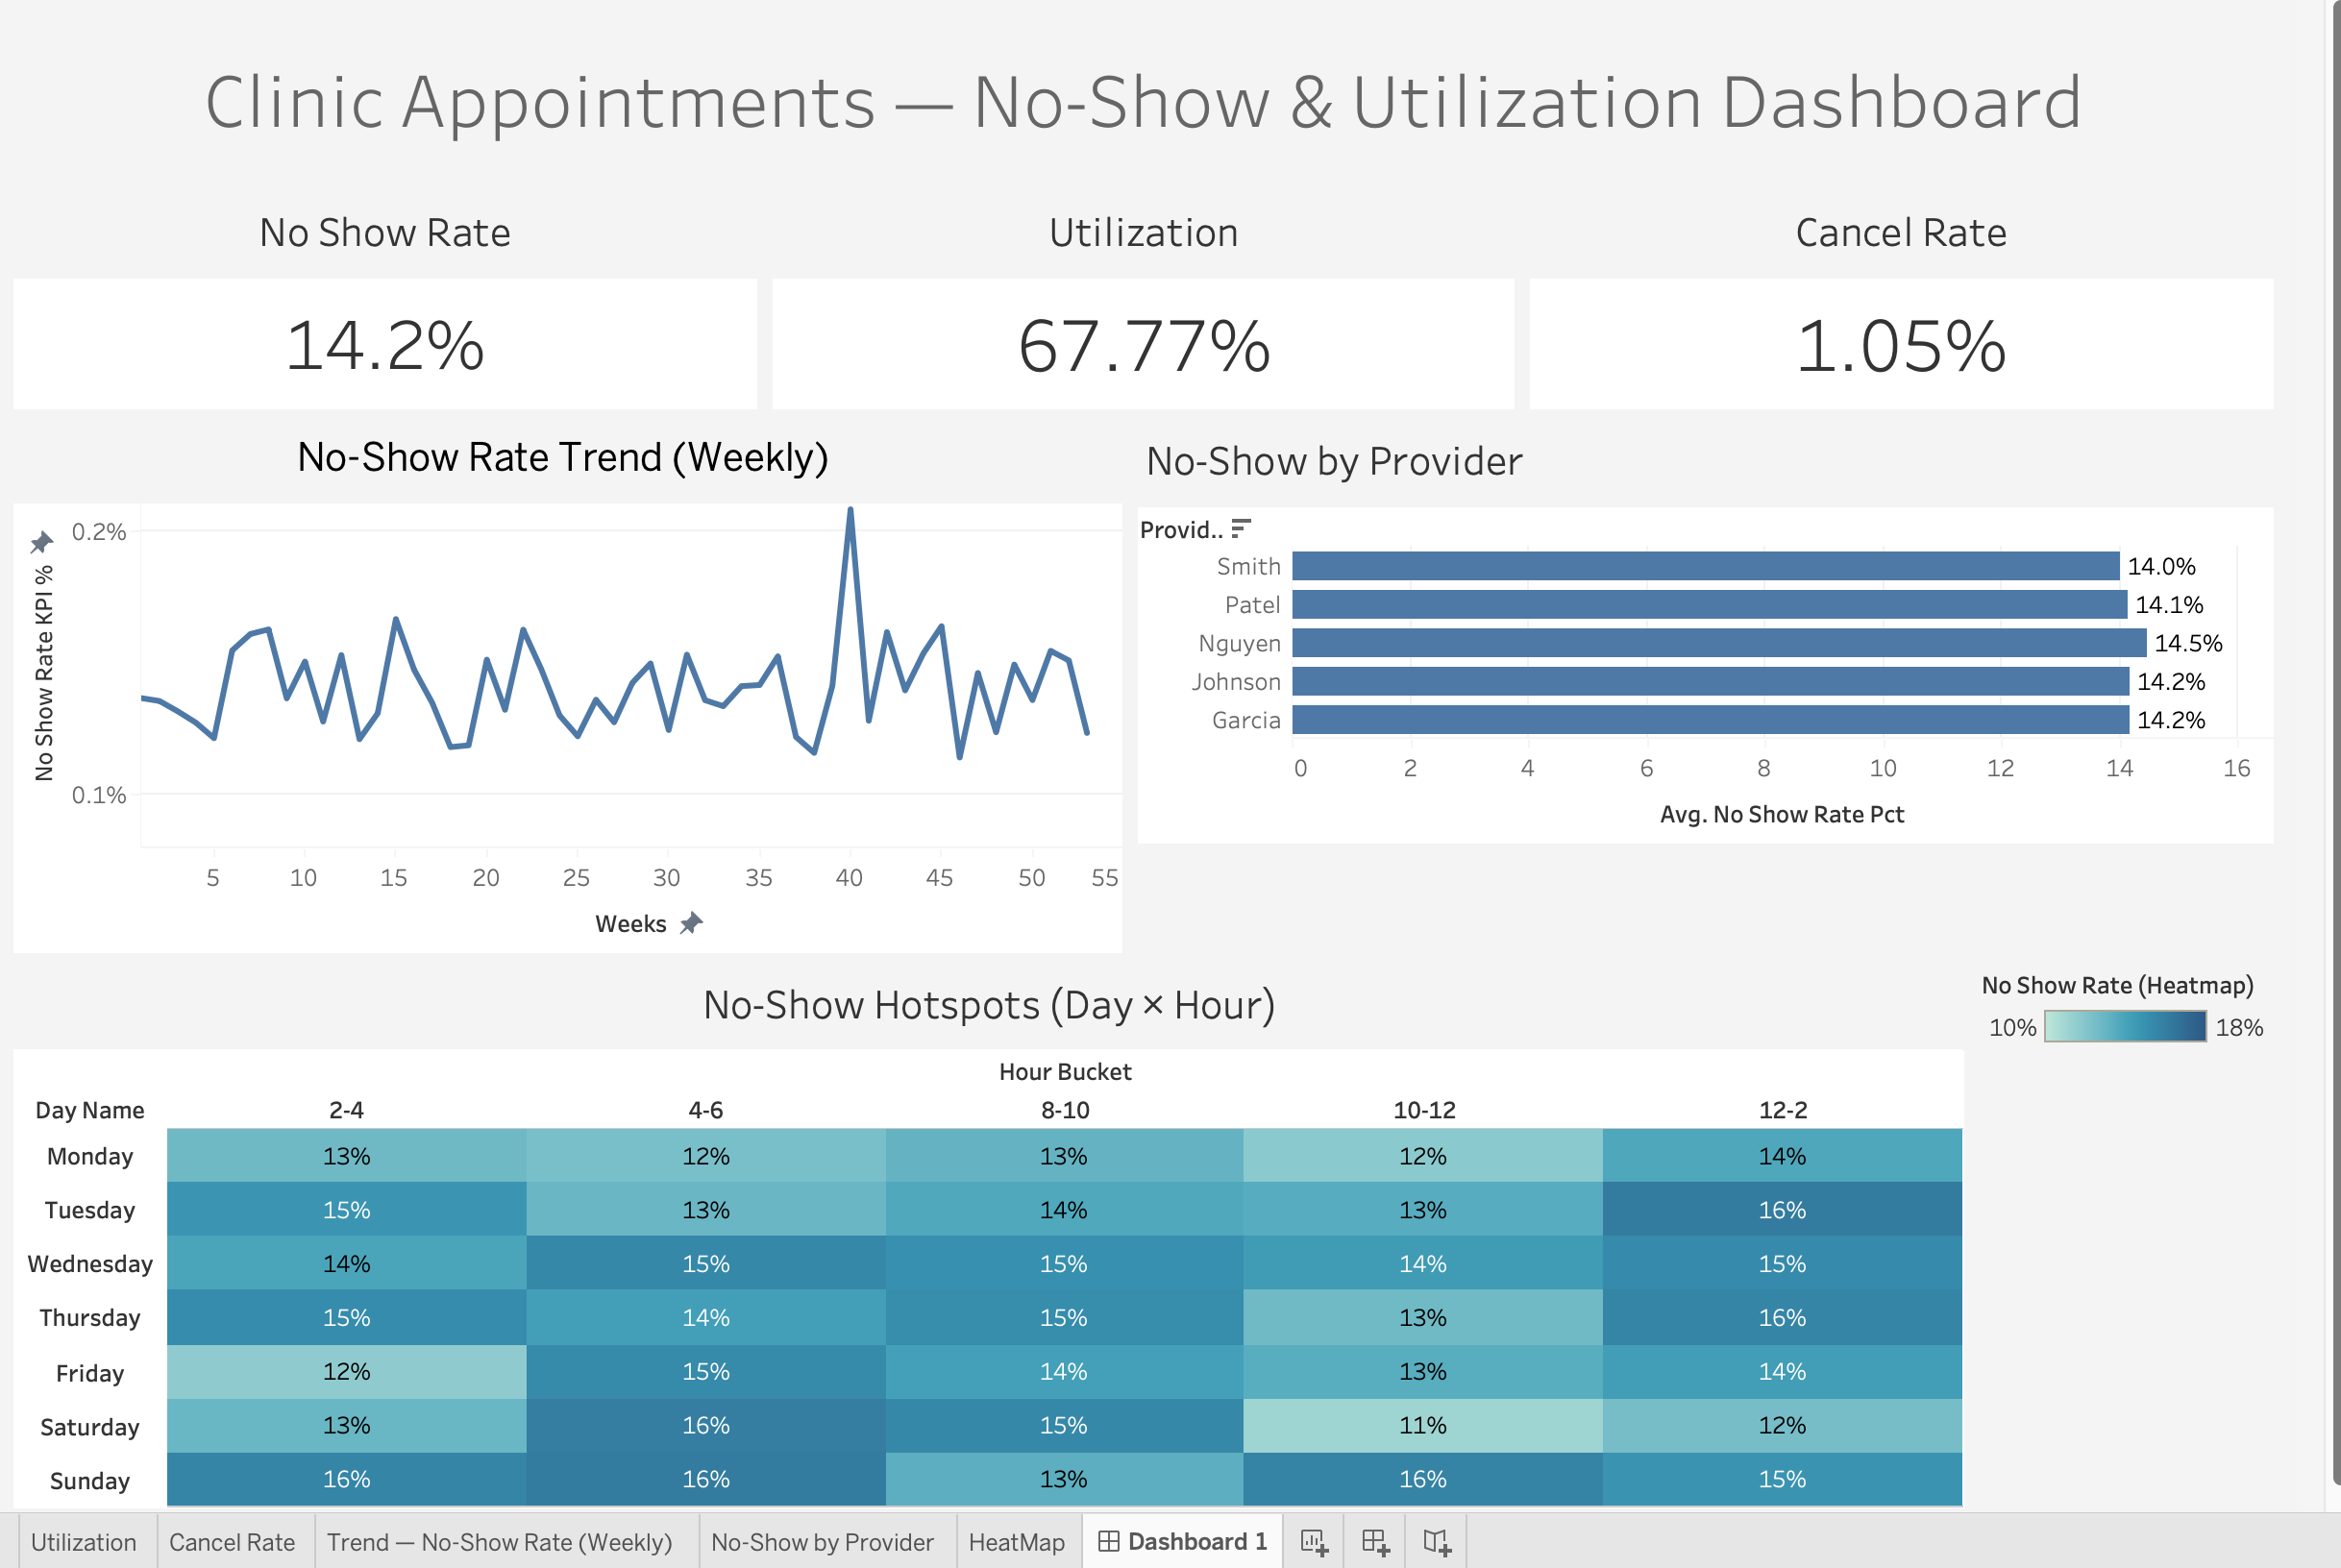

The page's visual inventory and layout, read from the dashboard file:
{"tool":"tableau","page":{"name":"Dashboard 1","canvas":[1200,800],"ordinal":0},"visuals":[{"type":"text","box":[8,8,1184,93]},{"type":"worksheet","title":"No Show Rate","mark":"Automatic","box":[8,101,394.7,119]},{"type":"worksheet","title":"Utilization","mark":"Text","box":[402.7,101,394.7,119]},{"type":"worksheet","title":"Cancel Rate","mark":"Automatic","box":[797.3,101,394.7,119]},{"type":"worksheet","title":"Trend — No-Show Rate (Weekly)","mark":"Line","rows":["Calculation_3435603855609856"],"cols":["Date"],"box":[8,220,585,282.9]},{"type":"worksheet","title":"No-Show by Provider","mark":"Bar","rows":["ProviderName"],"cols":["NoShowRatePct"],"box":[593,220,599,282.9]},{"type":"worksheet","title":"HeatMap","mark":"Square","rows":["Calculation_3435603862384643"],"cols":["Calculation_3435603862319106"],"box":[8,502.9,1024,289.1]},{"type":"legend","title":"HeatMap","param":"[federated.0hfcbeh1d1imry12aorwo0fp8kiq].[usr:Calculation_3435603863564295:qk]","box":[1032,502.9,160,65]}]}

Visuals, with their boxes on the page's 1200x800 design canvas (x1, y1, x2, y2). These are canvas units, not pixel positions in the 2341x1568 screenshot, which may show the page scaled, cropped or inside an application window:
text: box(8, 8, 1192, 101)
"No Show Rate" worksheet: box(8, 101, 403, 220)
"Utilization" worksheet (Text marks): box(403, 101, 797, 220)
"Cancel Rate" worksheet: box(797, 101, 1192, 220)
"Trend — No-Show Rate (Weekly)" worksheet (Line marks): box(8, 220, 593, 503)
"No-Show by Provider" worksheet (Bar marks): box(593, 220, 1192, 503)
"HeatMap" worksheet (Square marks): box(8, 503, 1032, 792)
"HeatMap" legend: box(1032, 503, 1192, 568)
